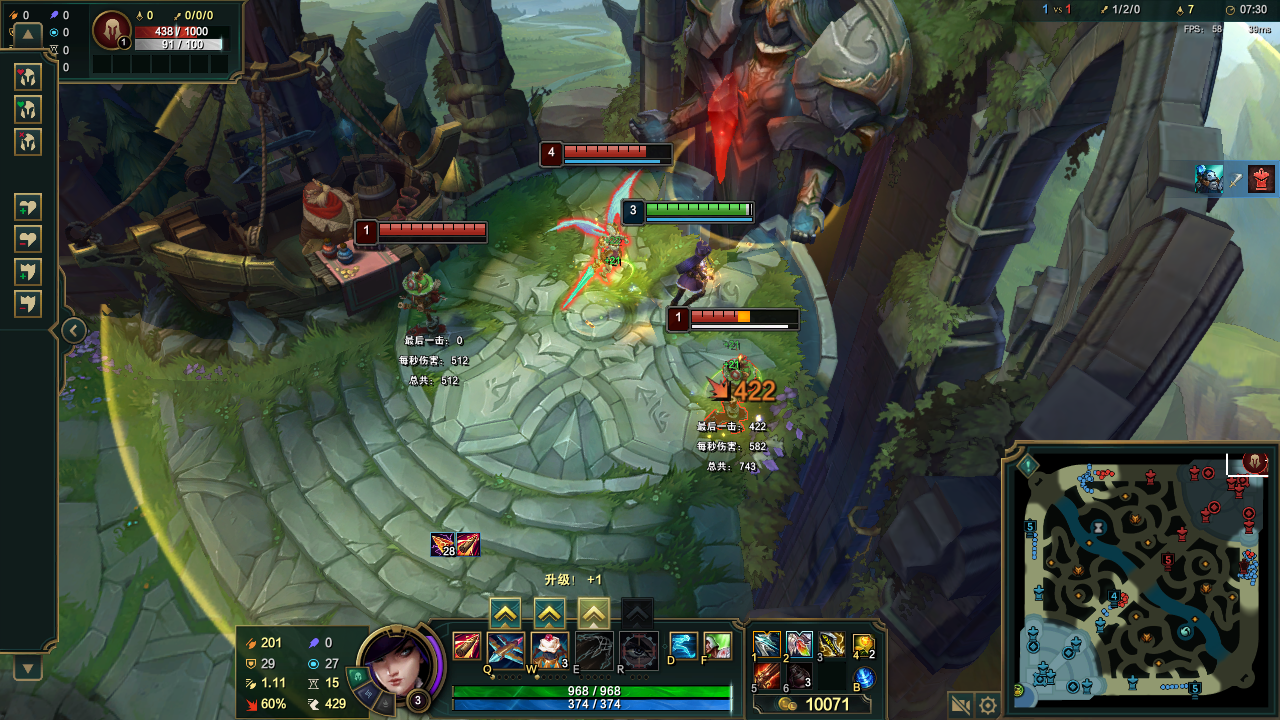DFYX: (563, 142, 675, 158), (692, 309, 800, 325), (379, 221, 487, 236)
